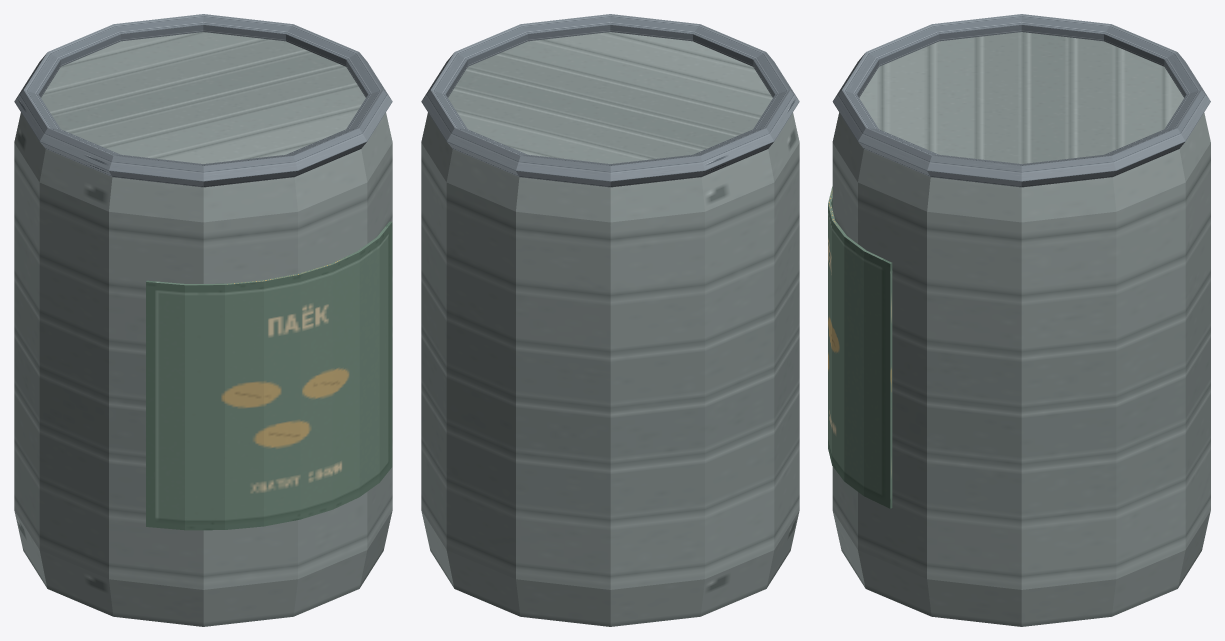
The model's file is MD_67_FoodTin.fbx.
The picture shows the model from 3 angles, left to right: view 1: azimuth 30°, elevation 25°; view 2: azimuth 150°, elevation 25°; view 3: azimuth 270°, elevation 25°; orthographic projection.
Visible parts, largest first — view 1: MD_67_FoodTin_tin_body, MD_67_FoodTin_food_label, MD_67_FoodTin_top_rim; view 2: MD_67_FoodTin_tin_body, MD_67_FoodTin_top_rim; view 3: MD_67_FoodTin_tin_body, MD_67_FoodTin_top_rim, MD_67_FoodTin_food_label.
Part boxes in pixels (x1,y1,x2,y2): MD_67_FoodTin_tin_body: (14, 32, 392, 626); MD_67_FoodTin_food_label: (146, 221, 392, 530); MD_67_FoodTin_top_rim: (14, 14, 392, 187); MD_67_FoodTin_tin_body: (421, 32, 799, 626); MD_67_FoodTin_top_rim: (421, 14, 799, 187); MD_67_FoodTin_tin_body: (832, 32, 1210, 626); MD_67_FoodTin_top_rim: (832, 14, 1210, 187); MD_67_FoodTin_food_label: (828, 186, 892, 508).
Bounding box in the file's own units: 0.084 × 0.1129 × 0.085.
3 materials, 3 textured.
